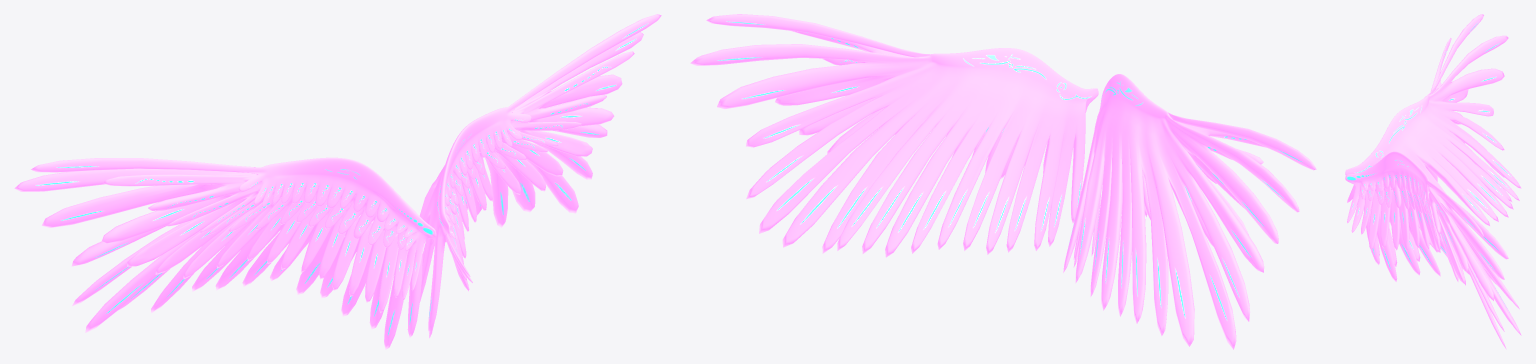
Rendered from fae_angel_wings (1).glb.
The picture shows the model from 3 angles, left to right: view 1: azimuth 30°, elevation 25°; view 2: azimuth 150°, elevation 25°; view 3: azimuth 270°, elevation 25°; orthographic projection. The views are drawn at different scales.
Visible parts, largest first — view 1: pCube1_0_4; view 2: pCube1_0_4; view 3: pCube1_0_4.
Part boxes in pixels (box(x1,y1,x2,y2)): pCube1_0_4: box(14, 14, 661, 349); pCube1_0_4: box(690, 14, 1316, 349); pCube1_0_4: box(1345, 14, 1521, 349).
Size of the model in its own units: 68.61 by 22.37 by 23.11.
1 material, 1 textured.
